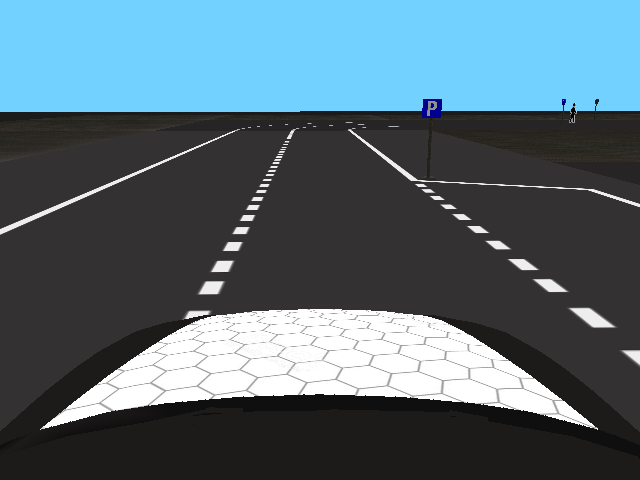parking: (421, 98, 443, 118)
